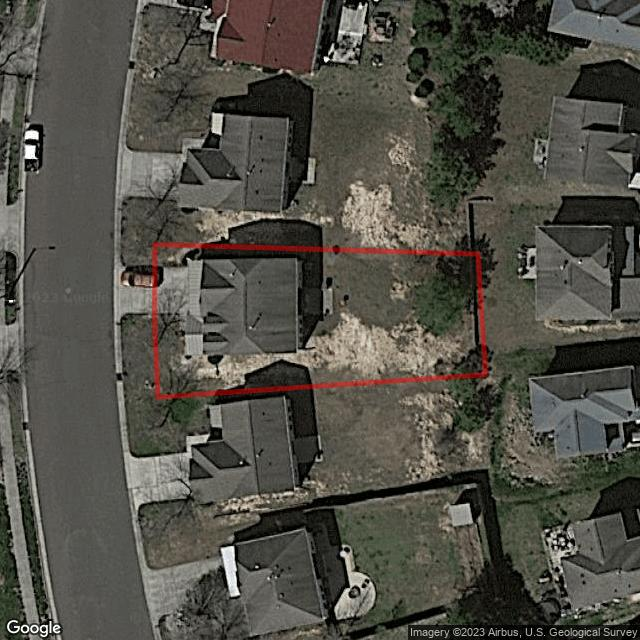Driveway: (158, 268, 184, 315)
Extra Driveway: (114, 266, 152, 315)
Extra Lawn: (121, 314, 155, 402), (121, 242, 154, 265)
House: (183, 259, 301, 359)
Other: (304, 288, 333, 316)
